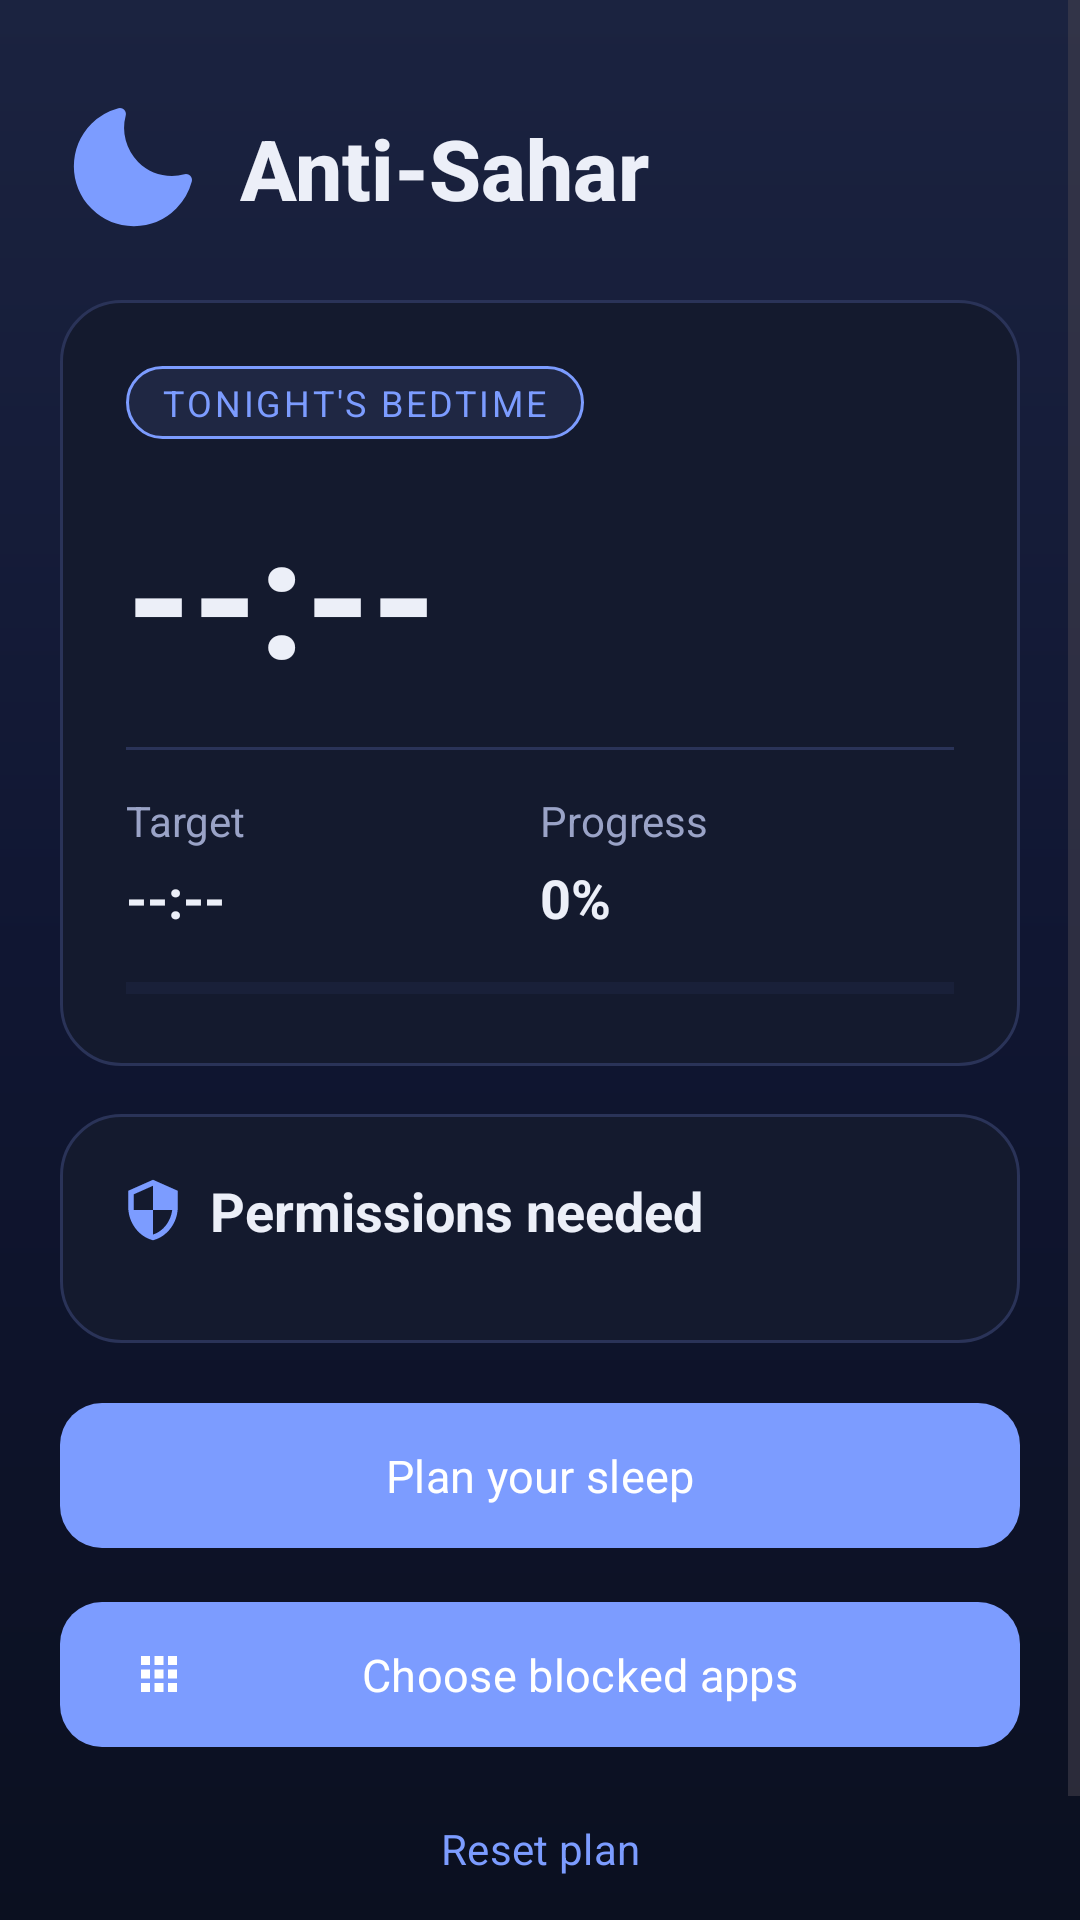

Screen size 1080 x 1920. Icon name, then its center in pixels as point (x, y):
moon: point (132, 167)
